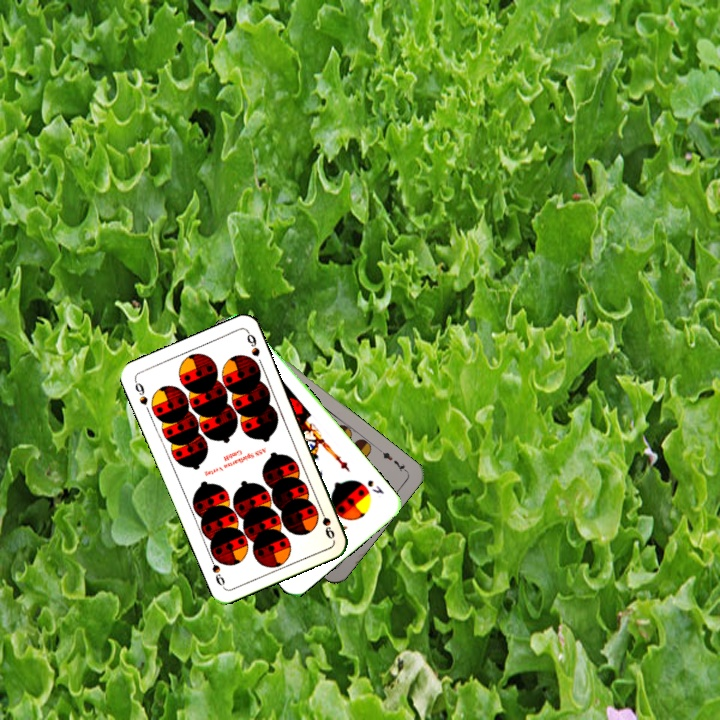E7: (375, 445, 410, 474)
S9: (315, 502, 337, 542), (130, 376, 151, 408)
SK: (363, 476, 387, 497)
